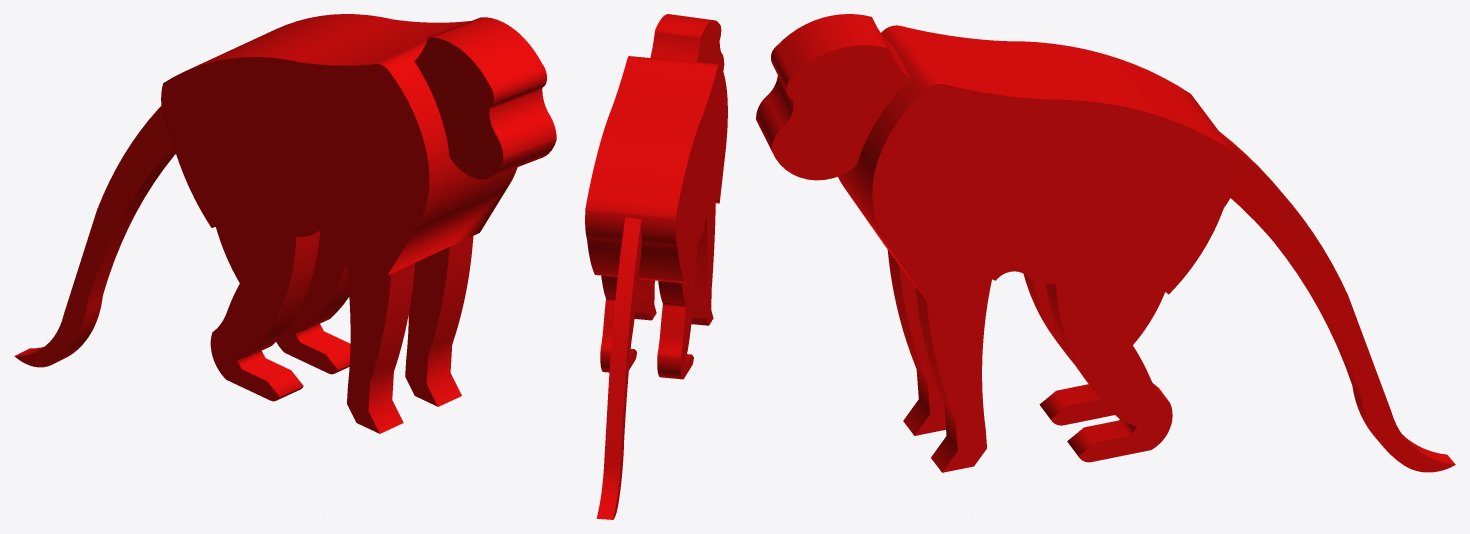
File: bboat.glb
The picture shows the model from 3 angles, left to right: view 1: azimuth 30°, elevation 25°; view 2: azimuth 150°, elevation 25°; view 3: azimuth 270°, elevation 25°; orthographic projection. The views are drawn at different scales.
Visible parts, largest first — view 1: Mesh7 Group1 Model, Mesh2 Group3 Group1 Model, Mesh4 Group5 Group1 Model, Mesh6 Group7 Group1 Model, Mesh5 Group6 Group1 Model, Mesh3 Group4 Group1 Model, Mesh1 Group2 Group1 Model; view 2: Mesh7 Group1 Model, Mesh6 Group7 Group1 Model, Mesh4 Group5 Group1 Model, Mesh2 Group3 Group1 Model, Mesh5 Group6 Group1 Model, Mesh1 Group2 Group1 Model, Mesh3 Group4 Group1 Model; view 3: Mesh7 Group1 Model, Mesh2 Group3 Group1 Model, Mesh1 Group2 Group1 Model, Mesh6 Group7 Group1 Model, Mesh3 Group4 Group1 Model, Mesh5 Group6 Group1 Model, Mesh4 Group5 Group1 Model.
Boxes of the visible parts, x1,y1,x2,y2 form: Mesh7 Group1 Model: [161, 14, 517, 275]; Mesh2 Group3 Group1 Model: [414, 17, 556, 179]; Mesh4 Group5 Group1 Model: [210, 222, 319, 401]; Mesh6 Group7 Group1 Model: [14, 106, 175, 367]; Mesh5 Group6 Group1 Model: [343, 240, 414, 433]; Mesh3 Group4 Group1 Model: [405, 236, 473, 406]; Mesh1 Group2 Group1 Model: [276, 230, 350, 374]; Mesh7 Group1 Model: [585, 56, 727, 283]; Mesh6 Group7 Group1 Model: [596, 217, 641, 519]; Mesh4 Group5 Group1 Model: [657, 244, 697, 379]; Mesh2 Group3 Group1 Model: [650, 14, 724, 70]; Mesh5 Group6 Group1 Model: [691, 199, 715, 325]; Mesh1 Group2 Group1 Model: [600, 275, 638, 372]; Mesh3 Group4 Group1 Model: [634, 279, 656, 320]; Mesh7 Group1 Model: [838, 25, 1237, 304]; Mesh2 Group3 Group1 Model: [756, 14, 909, 180]; Mesh1 Group2 Group1 Model: [1046, 273, 1172, 462]; Mesh6 Group7 Group1 Model: [1219, 131, 1455, 472]; Mesh3 Group4 Group1 Model: [915, 276, 991, 472]; Mesh5 Group6 Group1 Model: [887, 250, 945, 435]; Mesh4 Group5 Group1 Model: [1023, 274, 1114, 425].
Size of the model in its own units: 368 by 759 by 897.
2 materials, 1 textured.
